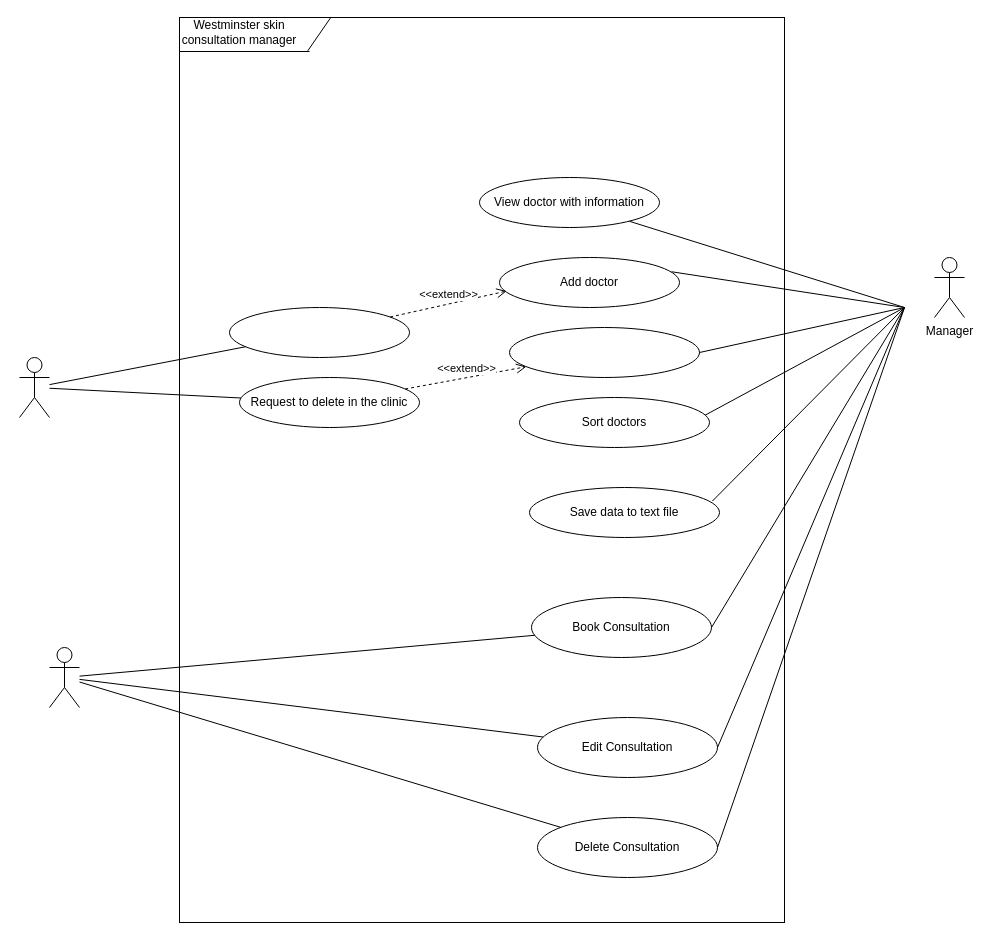
Image size: 990x940. Some labels were removed from this diagram. The shapes that lost their labels are listed below. From the top down, each one's centre as x and y in pixels, then its label:
(319,332): Request to add in the clinic
(604,352): Delete doctor
(34,387): Doctor
(64,677): Patient
